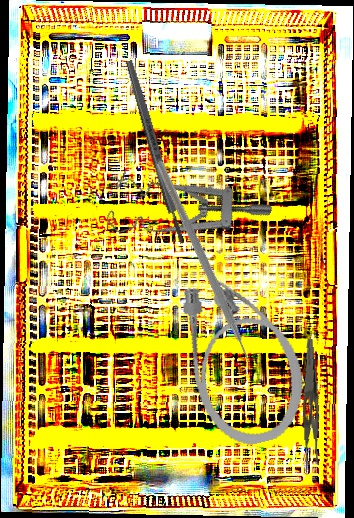Cannula: (166, 238, 316, 455)
Chopper: (82, 160, 319, 382)
Dressing Forceps: (291, 338, 326, 472)
Scalpel Handle: (124, 59, 187, 245)
Speculum: (98, 142, 274, 287)
